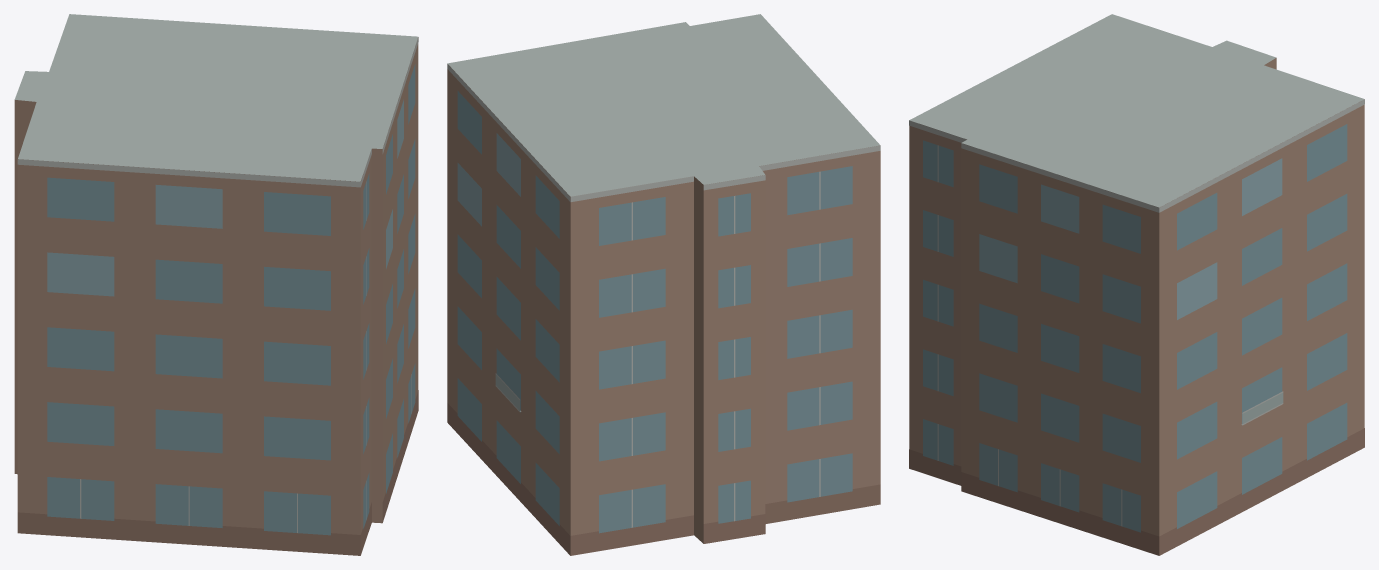
Rendered from survey-upis-33041131.glb.
3 renders of one model, left to right at view 1: azimuth 30°, elevation 25°; view 2: azimuth 150°, elevation 25°; view 3: azimuth 270°, elevation 25°, orthographic. The views are drawn at different scales.
Visible parts, largest first — view 1: survey-upis-33041131.tmp; view 2: survey-upis-33041131.tmp; view 3: survey-upis-33041131.tmp.
Boxes of the visible parts, bbox=[...] form: survey-upis-33041131.tmp: bbox=[14, 14, 418, 555]; survey-upis-33041131.tmp: bbox=[447, 14, 880, 555]; survey-upis-33041131.tmp: bbox=[909, 14, 1364, 555].
Size of the model in its own units: 19.19 by 16.1 by 19.09.
